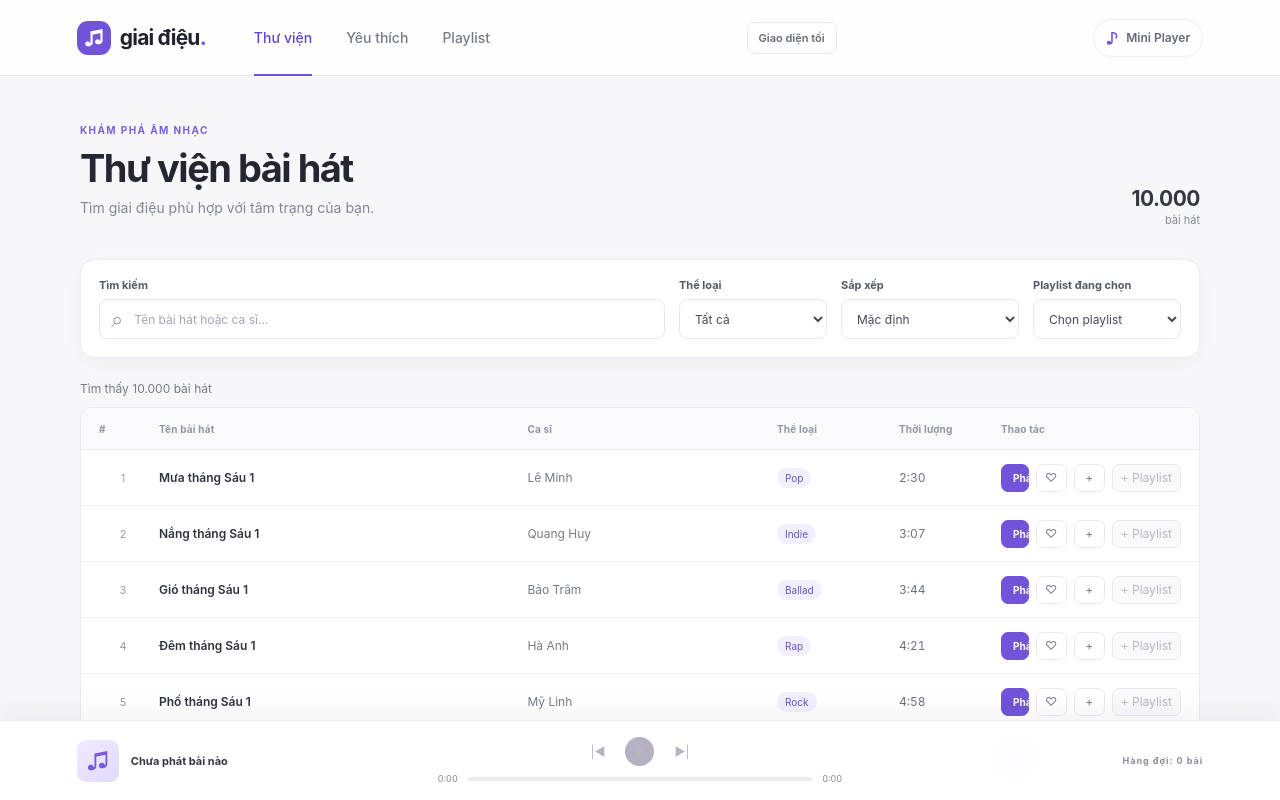
Test case: Ứng dụng trình phát nhạc › phát danh sách đang lọc và lưu bài yêu thích
Select "Pop" in the dropdown labelled "Thể loại" at x=753, y=319, box [679,299,827,339]
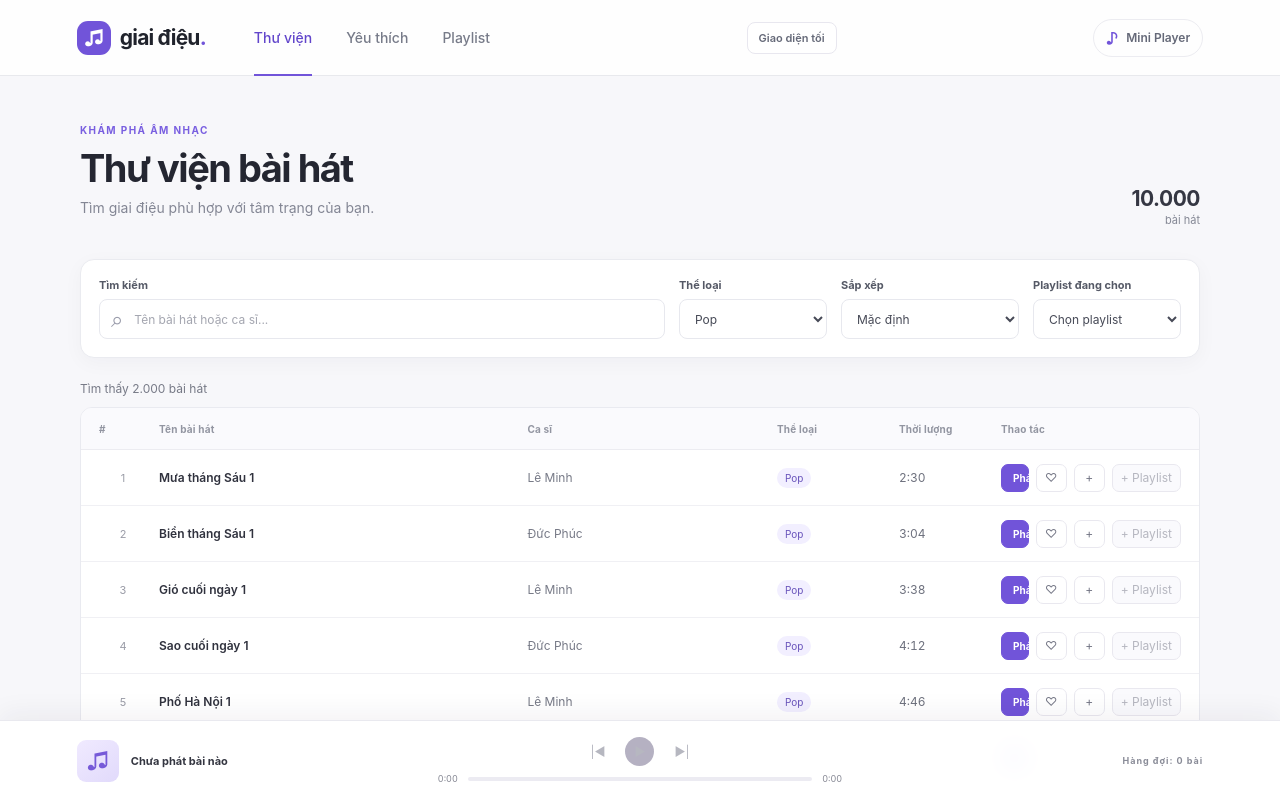
Click the button with aria-label "Phát Mưa tháng Sáu 1" at x=1015, y=478, box [1001,464,1029,492]
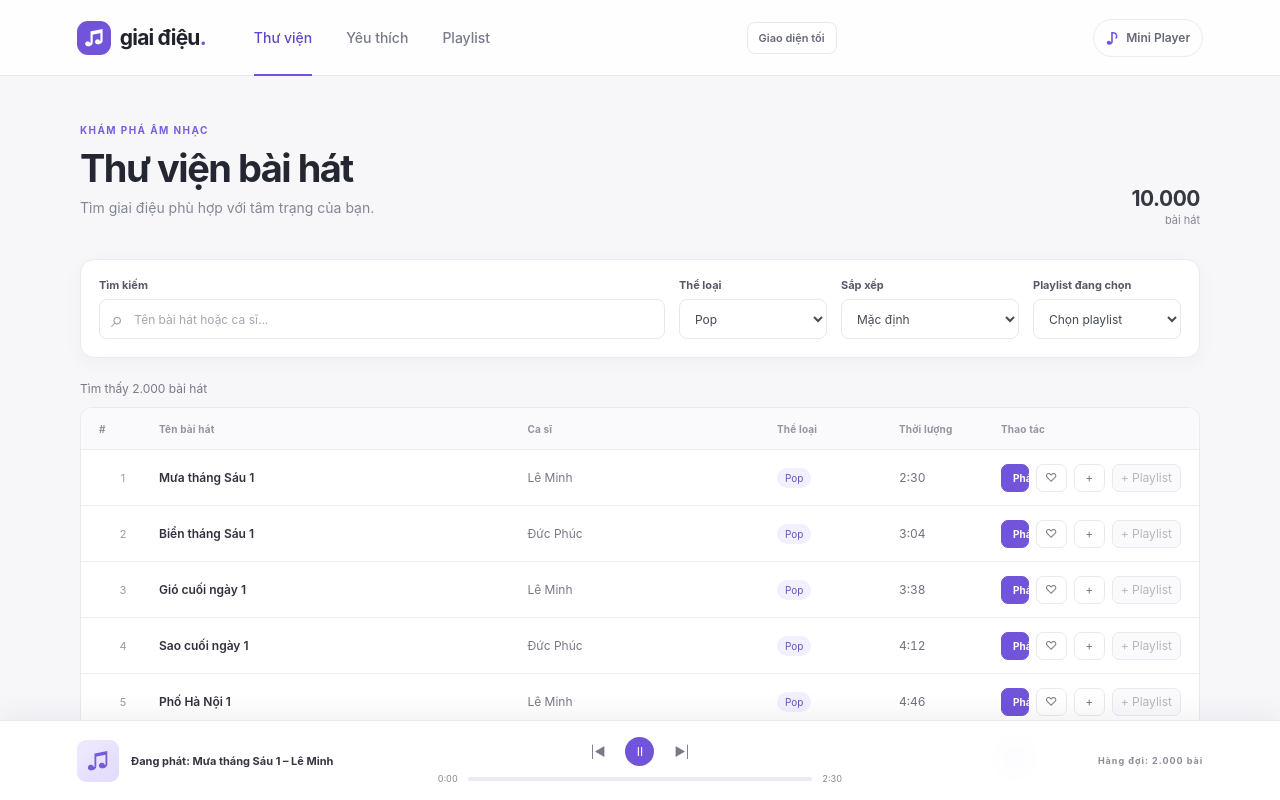
Expected: the text "Đang phát: Mưa tháng Sáu 1 – Lê Minh" is shown, [131,754,333,768]
Click the button named "Thêm vào yêu thích" at x=1051, y=478, box [1036,464,1067,492]
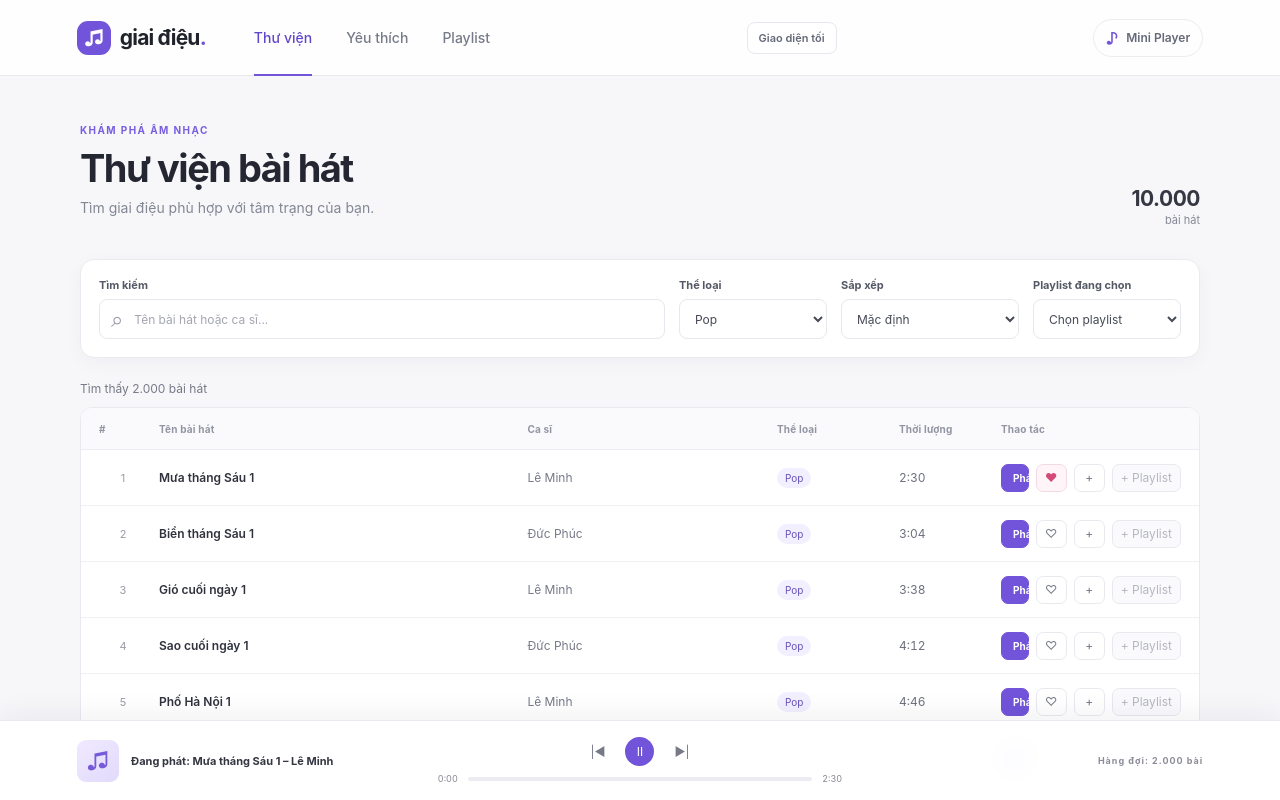
Click the link "Yêu thích" at x=377, y=38, box [346,29,408,46]
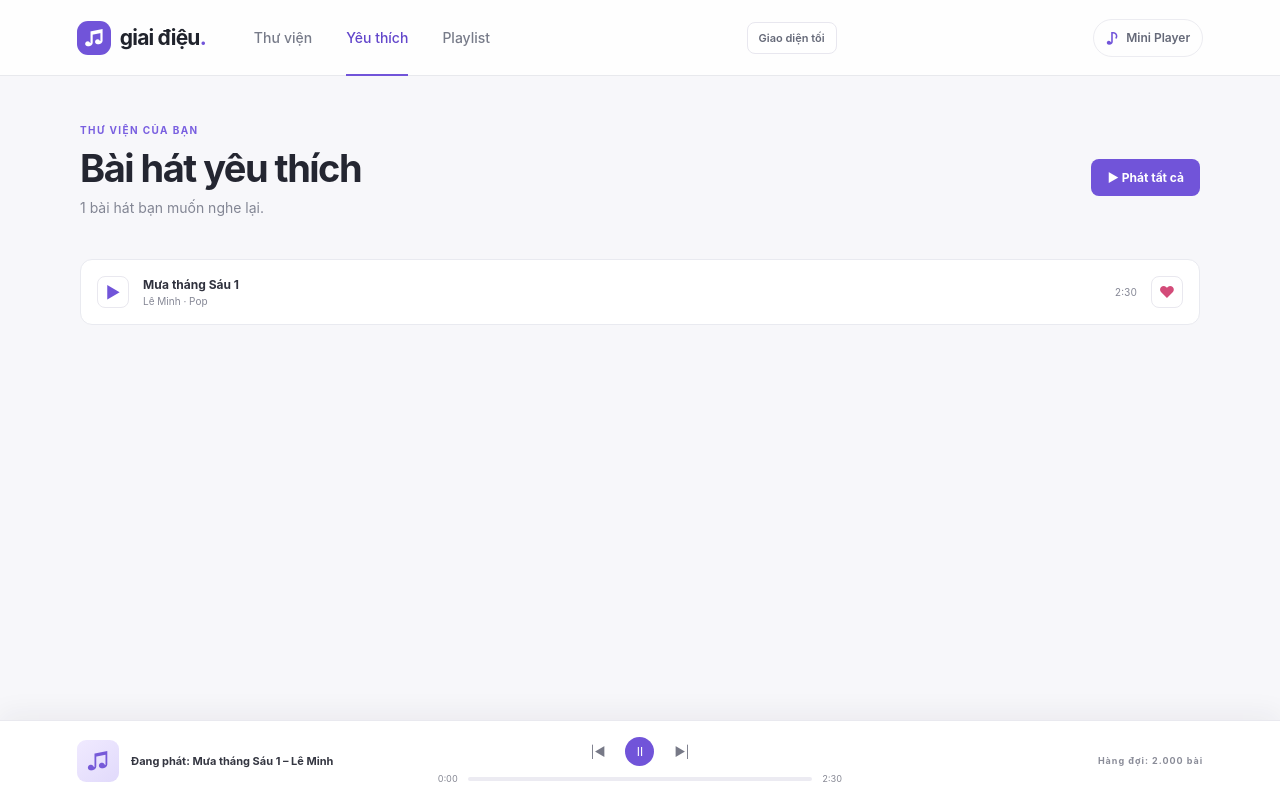
Expected: the text "Mưa tháng Sáu 1" is shown, [143,277,239,292]
Expected: the button "▶ Phát tất cả" is shown, [1092,158,1200,196]
